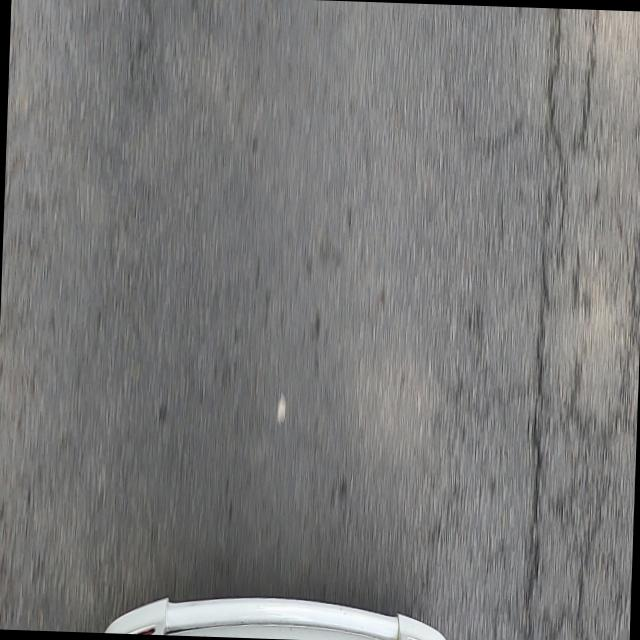Retak-Memanjang: (525, 8, 563, 640)
